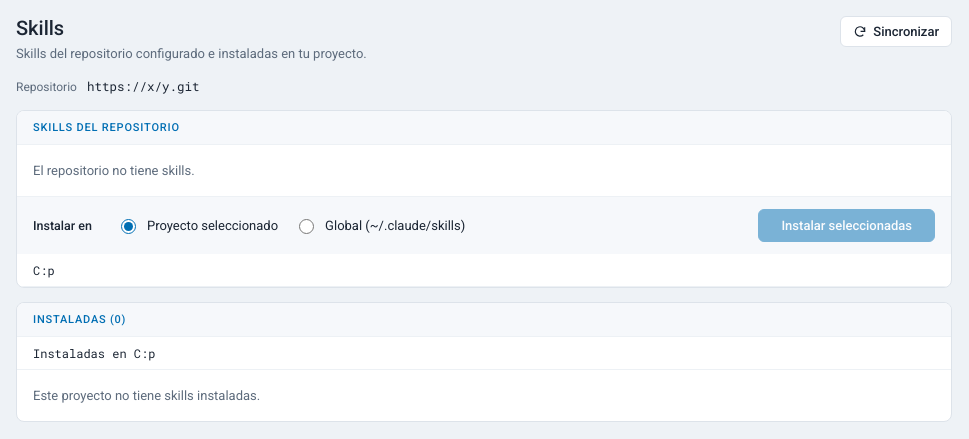
SkillsView › a failed sync shows its error in the empty list
Click the button "Sincronizar": (896, 32) left=840, top=16, right=952, bottom=47
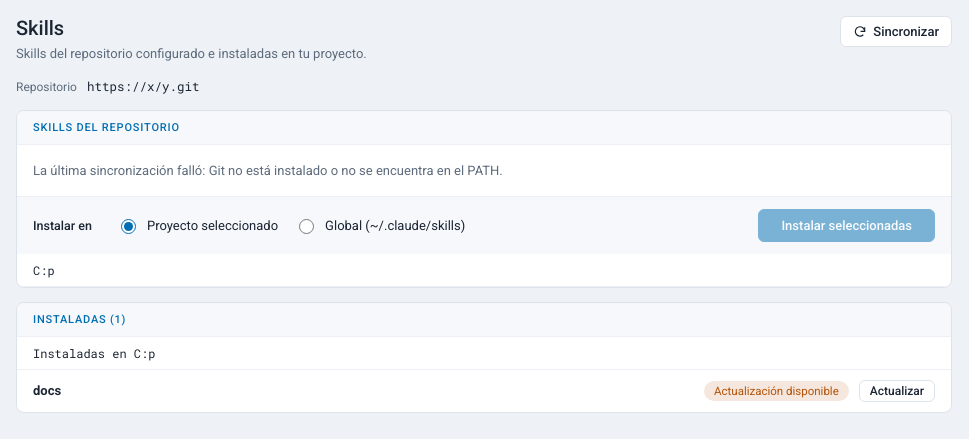
Expected: the text "La última sincronización falló: Git no está instalado" is shown, left=33, top=163, right=503, bottom=178
